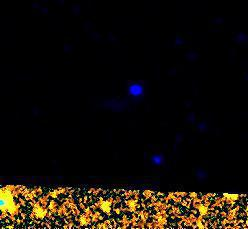star: (187, 193, 217, 223)
